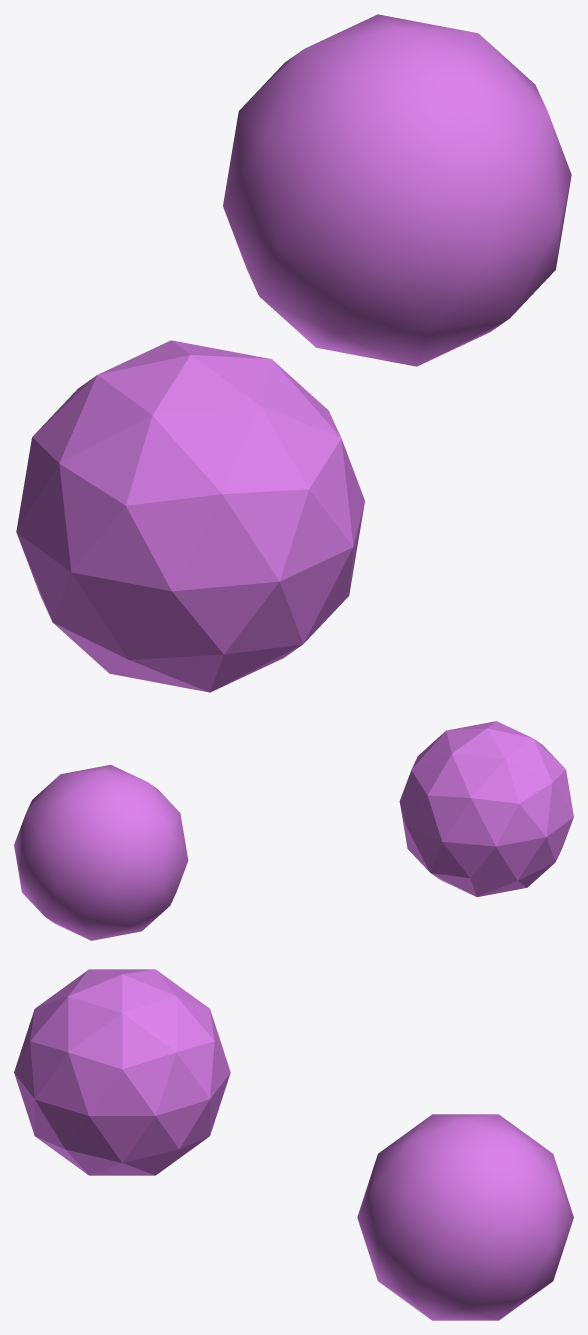
Rendered from sphereTestSmooth.glb.
3 renders of one model, top to bottom at view 1: azimuth 30°, elevation 25°; view 2: azimuth 150°, elevation 25°; view 3: azimuth 270°, elevation 25°, orthographic. The views are drawn at different scales.
Parts seen in each view (by area): view 1: Icosphere, Icosphere.001; view 2: Icosphere, Icosphere.001; view 3: Icosphere, Icosphere.001.
Part boxes in pixels (x1,y1,x2,y2): Icosphere: (16, 340, 364, 692); Icosphere.001: (223, 14, 571, 366); Icosphere: (399, 721, 573, 897); Icosphere.001: (14, 764, 188, 940); Icosphere: (14, 969, 230, 1175); Icosphere.001: (357, 1114, 573, 1320).
Size of what is drawn, in the model's own units: 15.21 by 6 by 15.5.
